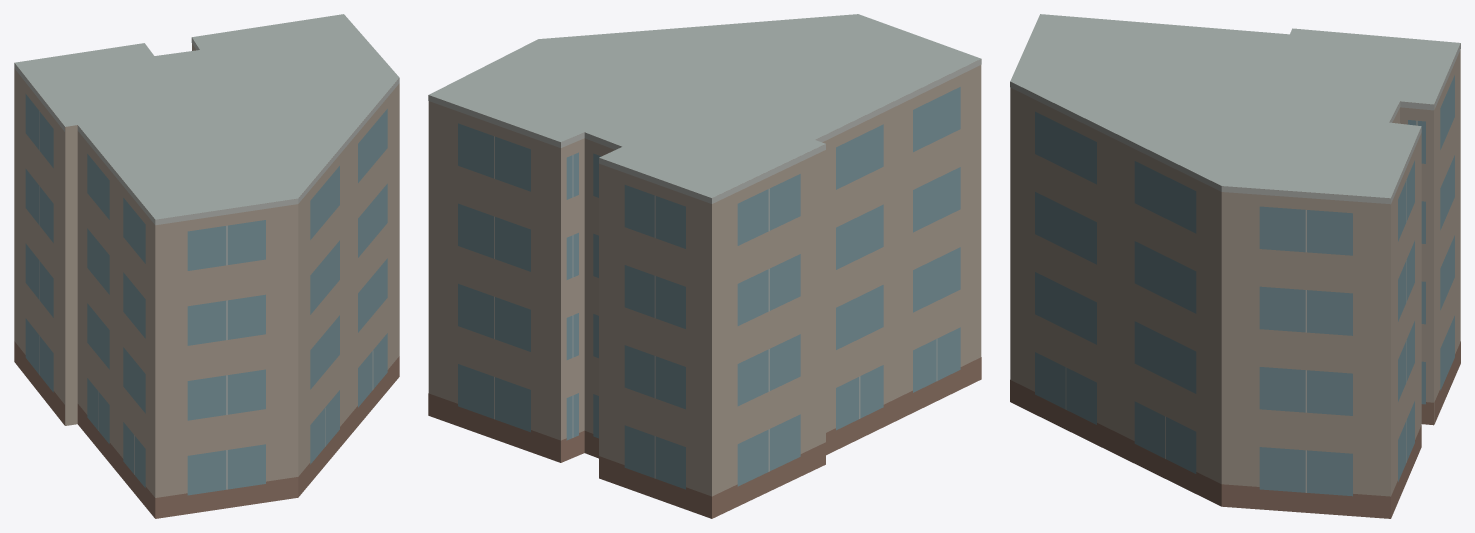
Rendered from survey-upis-32899306.glb.
3 views of the same model, side by side, from view 1: azimuth 30°, elevation 25°; view 2: azimuth 150°, elevation 25°; view 3: azimuth 270°, elevation 25° (orthographic). The views are drawn at different scales.
Visible parts, largest first — view 1: survey-upis-32899306.tmp; view 2: survey-upis-32899306.tmp; view 3: survey-upis-32899306.tmp.
Boxes of the visible parts, <box> form: survey-upis-32899306.tmp: <box>14,14,399,518</box>; survey-upis-32899306.tmp: <box>428,14,981,518</box>; survey-upis-32899306.tmp: <box>1010,14,1460,518</box>.
Size of the model in its own units: 16.15 by 13.1 by 16.69.
